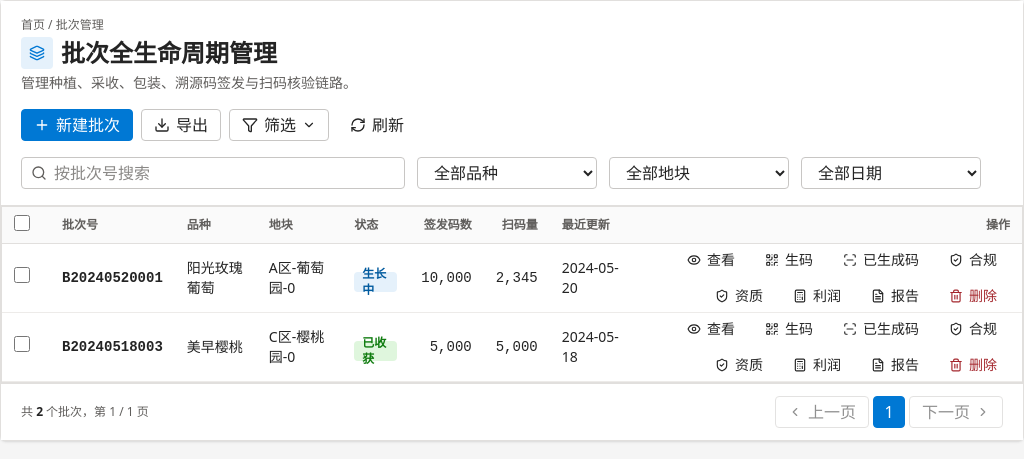
Test: BatchAdmin Fluent console › filters visible rows by batch code
Expected: the text "B20240520001" is shown, [50,243,175,312]
Step 1. Type "18003" into the field with placeholder "按批次号搜索" → (213,173), box [21,157,405,189]
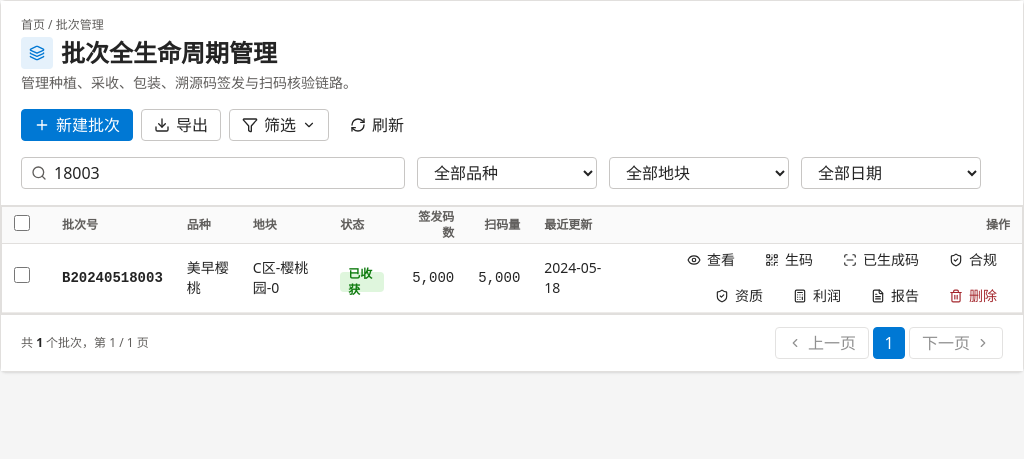
Expected: the text "B20240518003" is shown, [50,243,175,312]
Expected: the text "B20240520001" is gone
